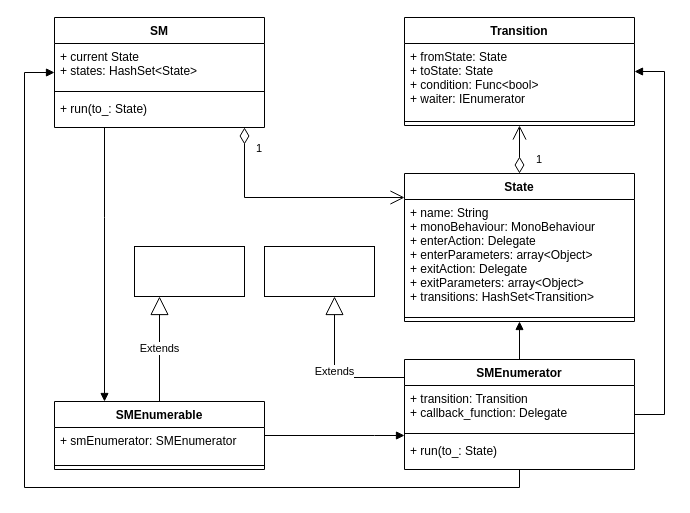
This 690x513 diagram has some shape labels left out. The shapes that lost their labels are listed below. From the top down, each one's centre as x and y in pixels, then its label:
At point 189,271: "«interface» IEnumerable".
At point 319,271: "«interface» IEnumerator".
